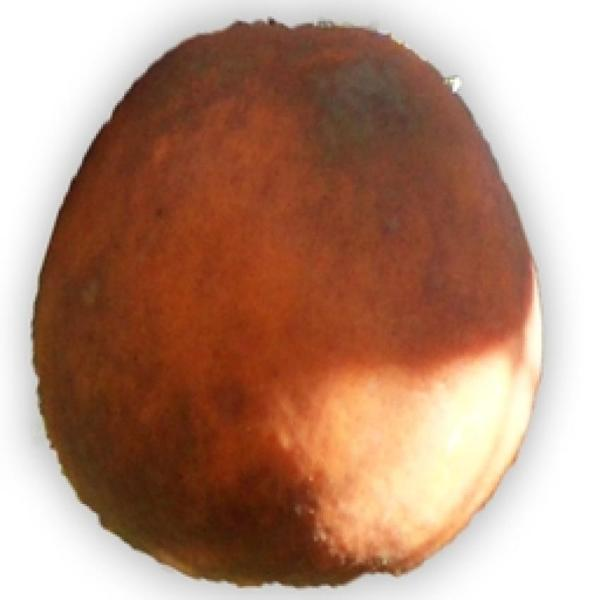Canker: (18, 0, 563, 591)
